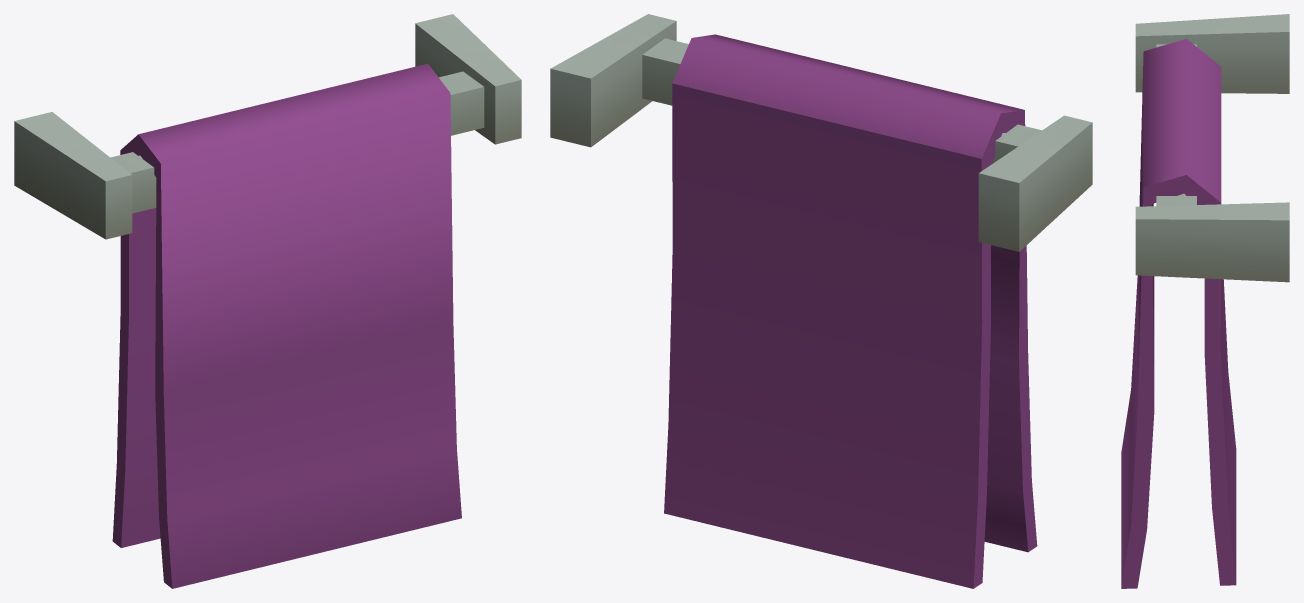
The model's file is SM_Towl_Hand_1_05.fbx.
3 views of the same model, side by side, from view 1: azimuth 30°, elevation 25°; view 2: azimuth 150°, elevation 25°; view 3: azimuth 270°, elevation 25° (orthographic). The views are drawn at different scales.
Parts seen in each view (by area): view 1: SM_Towl_Hand_1_05; view 2: SM_Towl_Hand_1_05; view 3: SM_Towl_Hand_1_05.
Boxes of the visible parts, x1,y1,x2,y2 form: SM_Towl_Hand_1_05: [14, 14, 521, 588]; SM_Towl_Hand_1_05: [550, 14, 1092, 588]; SM_Towl_Hand_1_05: [1121, 14, 1289, 588].
Size of the model in its own units: 52.35 by 49 by 18.06.
